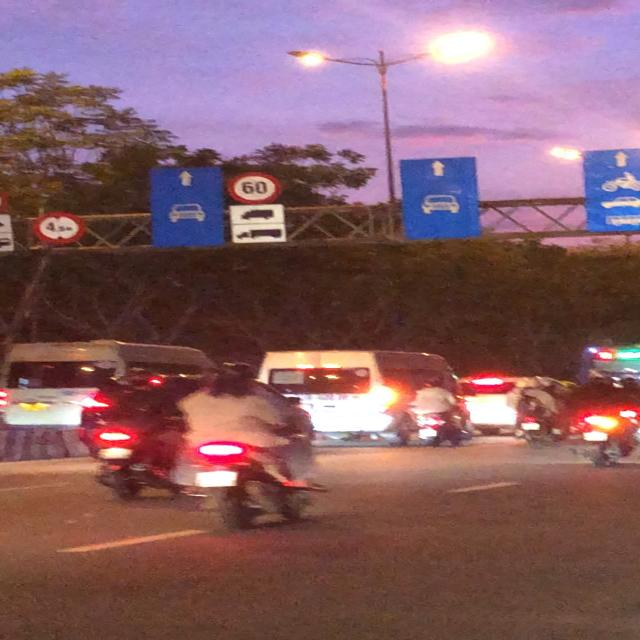Bien bao han che chieu cao: (26, 210, 100, 246)
Bien bao toc do toi da cho phep: (225, 172, 283, 204)
